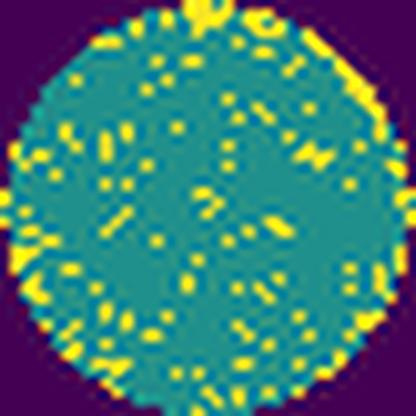Edge-Loc: (298, 29, 391, 145), (240, 2, 294, 43), (184, 0, 234, 43)
